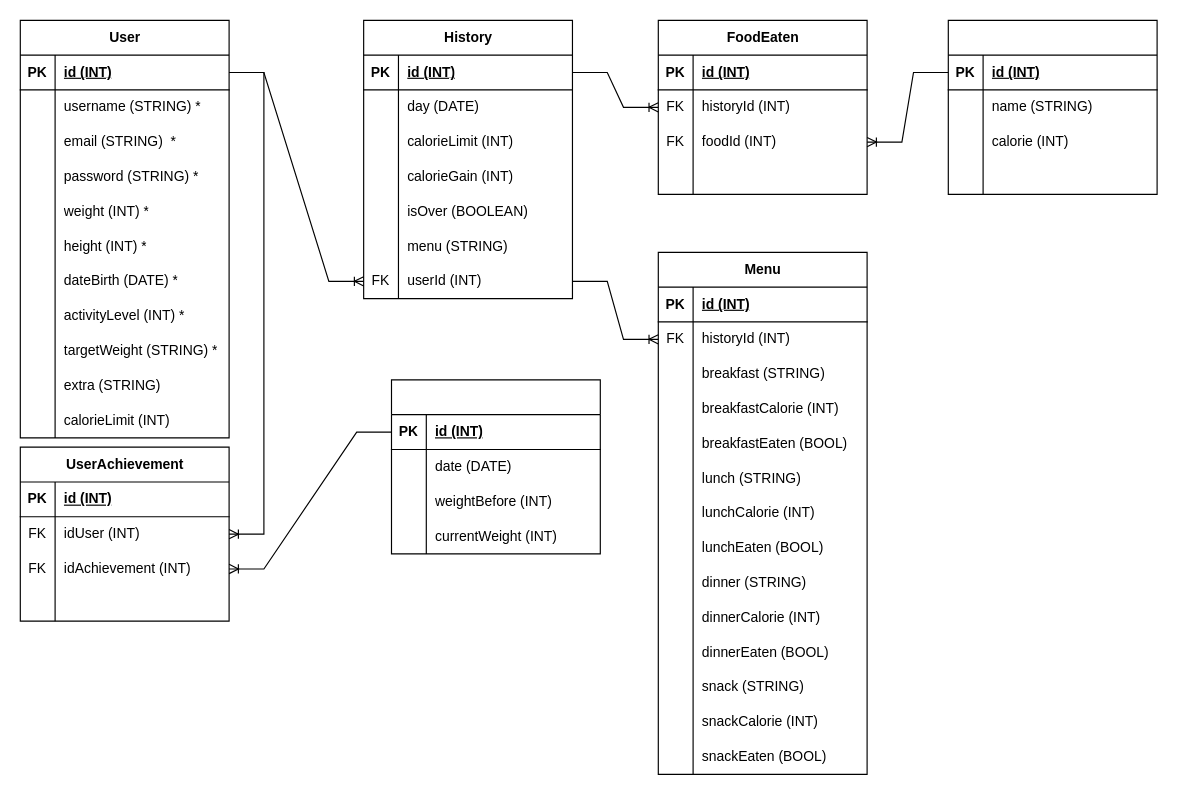
Image size: 1177x795. Some labels were removed from this diagram. The box of each missing label's shape, as (x1, y1, x2, y2) in pixels:
Achievement: (390, 379, 600, 554)
Food: (947, 19, 1157, 194)
